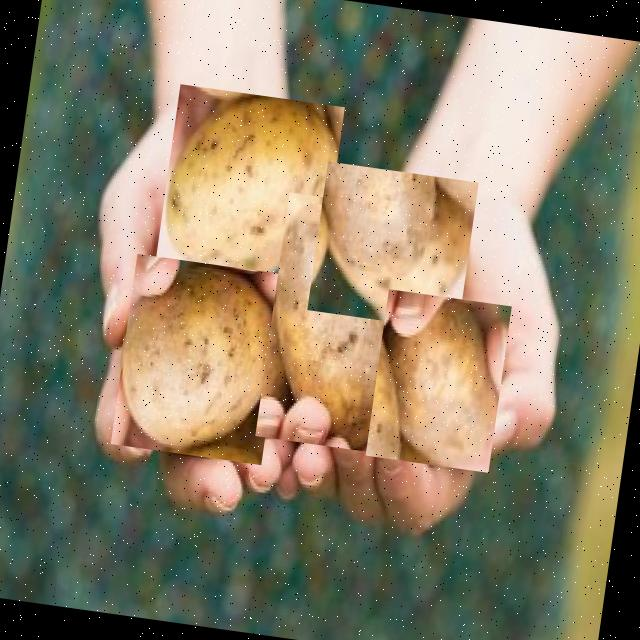Potato: (255, 193, 432, 457), (154, 84, 345, 294), (111, 254, 288, 465), (307, 162, 478, 332), (366, 289, 512, 473)
